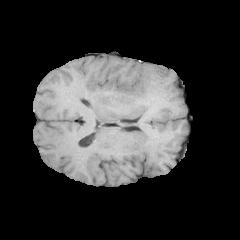glioma: (79, 64, 174, 129)
